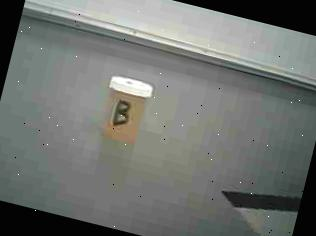Bottle B: (89, 66, 164, 155)
